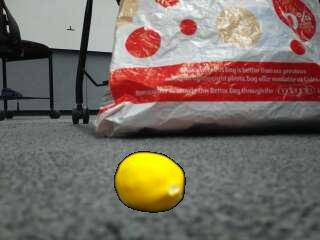lemon: (114, 153, 183, 213)
